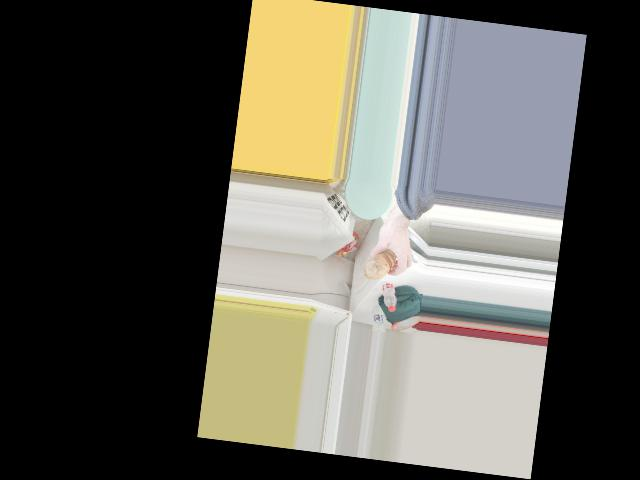sweet_potato: (364, 244, 397, 281)
